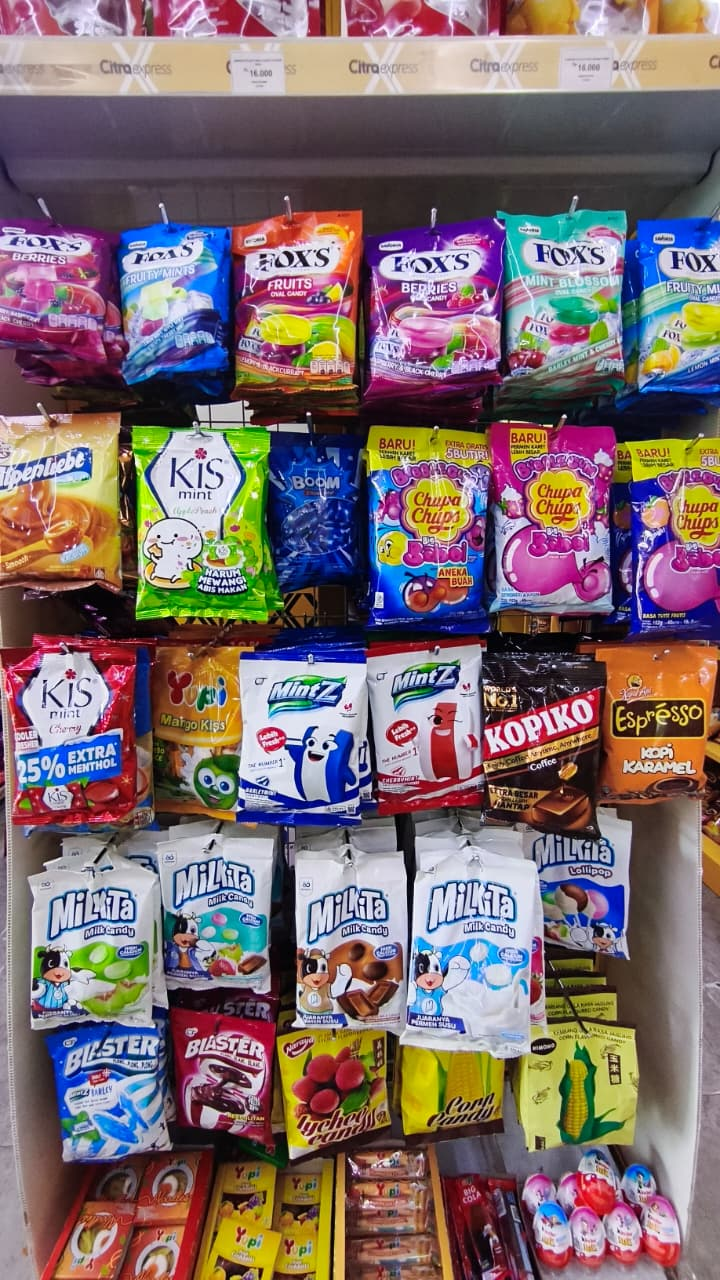Foxs: (237, 238, 355, 356), (515, 232, 633, 350)
Kis: (146, 441, 251, 546)
Milkita: (423, 872, 536, 985), (167, 849, 280, 962)
Mintz: (258, 671, 362, 775)
